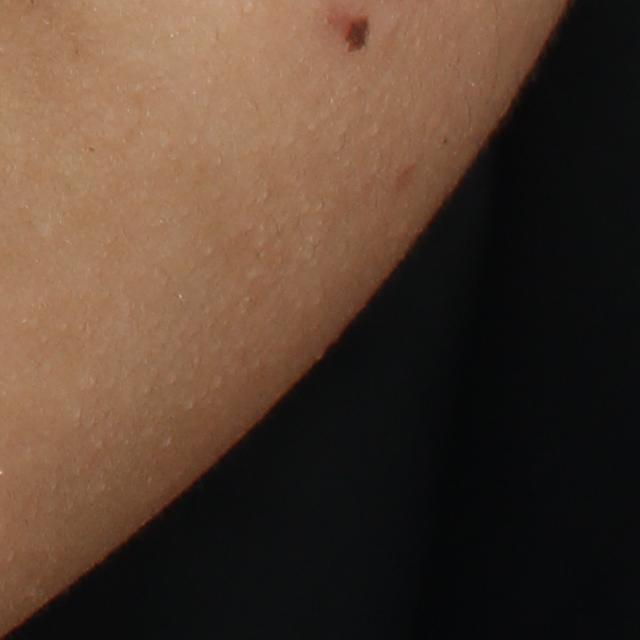nevus: (340, 13, 371, 58)
